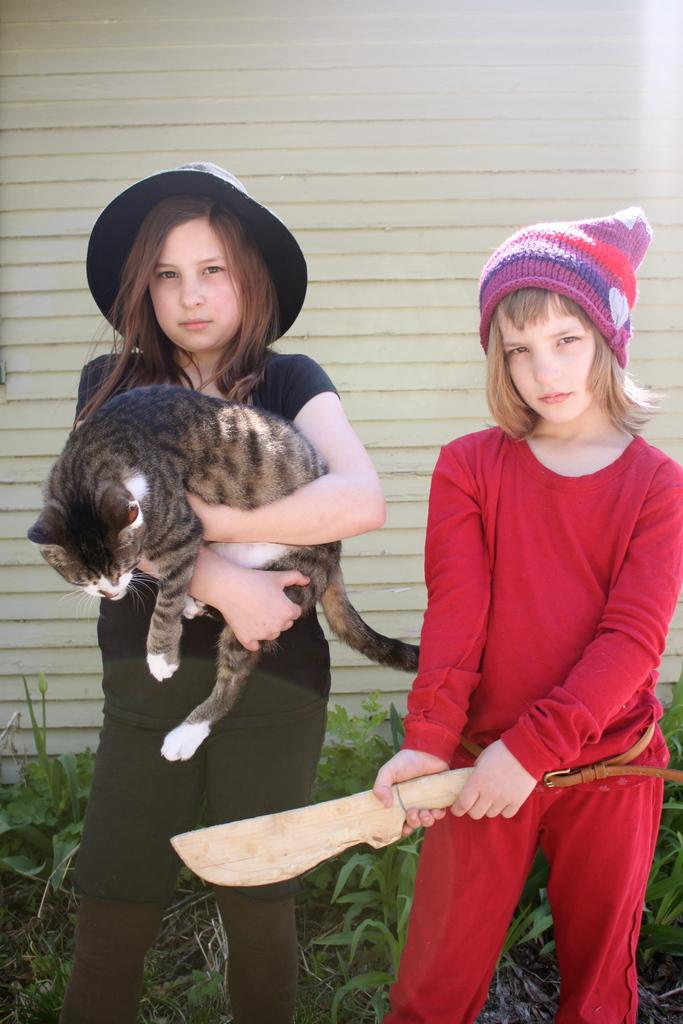Hat: (86, 155, 314, 335)
